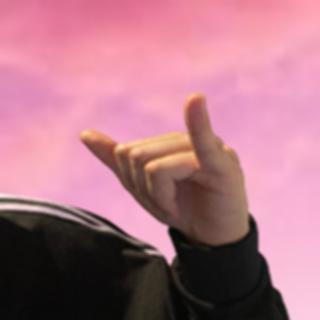HAVE: (73, 90, 252, 247)
